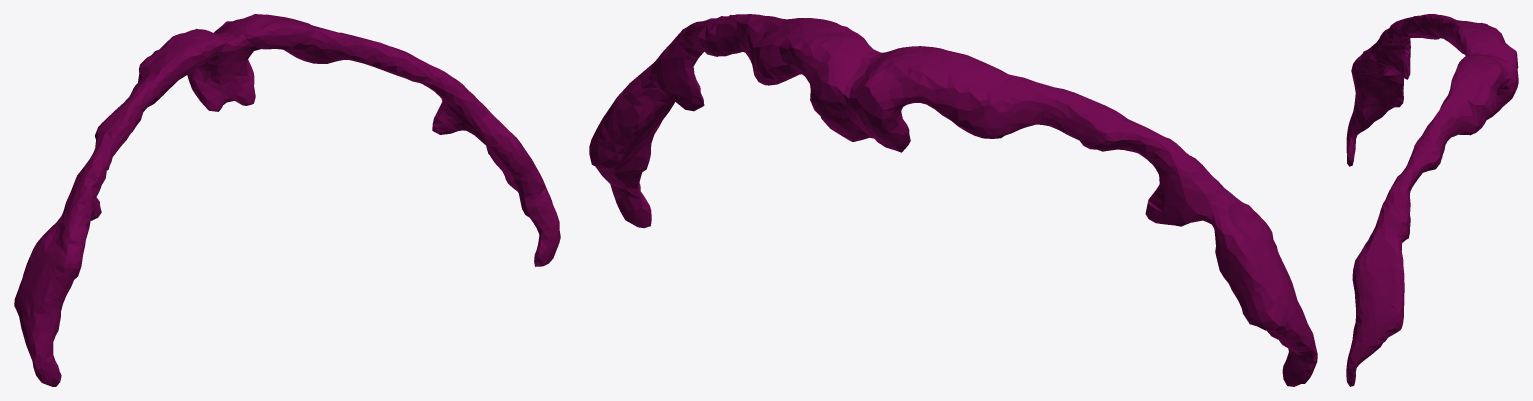
The model's file is 104-2-area 2 of cortex (somatosensory)-('0.4980', '0.0000', '0.3451').obj.
The picture shows the model from 3 angles, left to right: view 1: azimuth 30°, elevation 25°; view 2: azimuth 150°, elevation 25°; view 3: azimuth 270°, elevation 25°; orthographic projection. The views are drawn at different scales.
Size of the model in its own units: 354 by 159 by 108.
